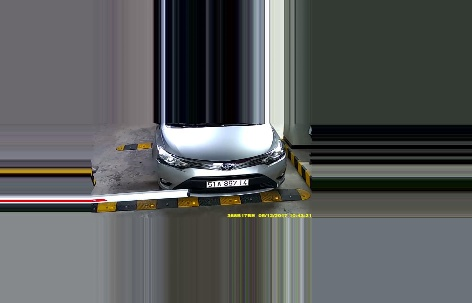plate: (206, 175, 249, 188)
